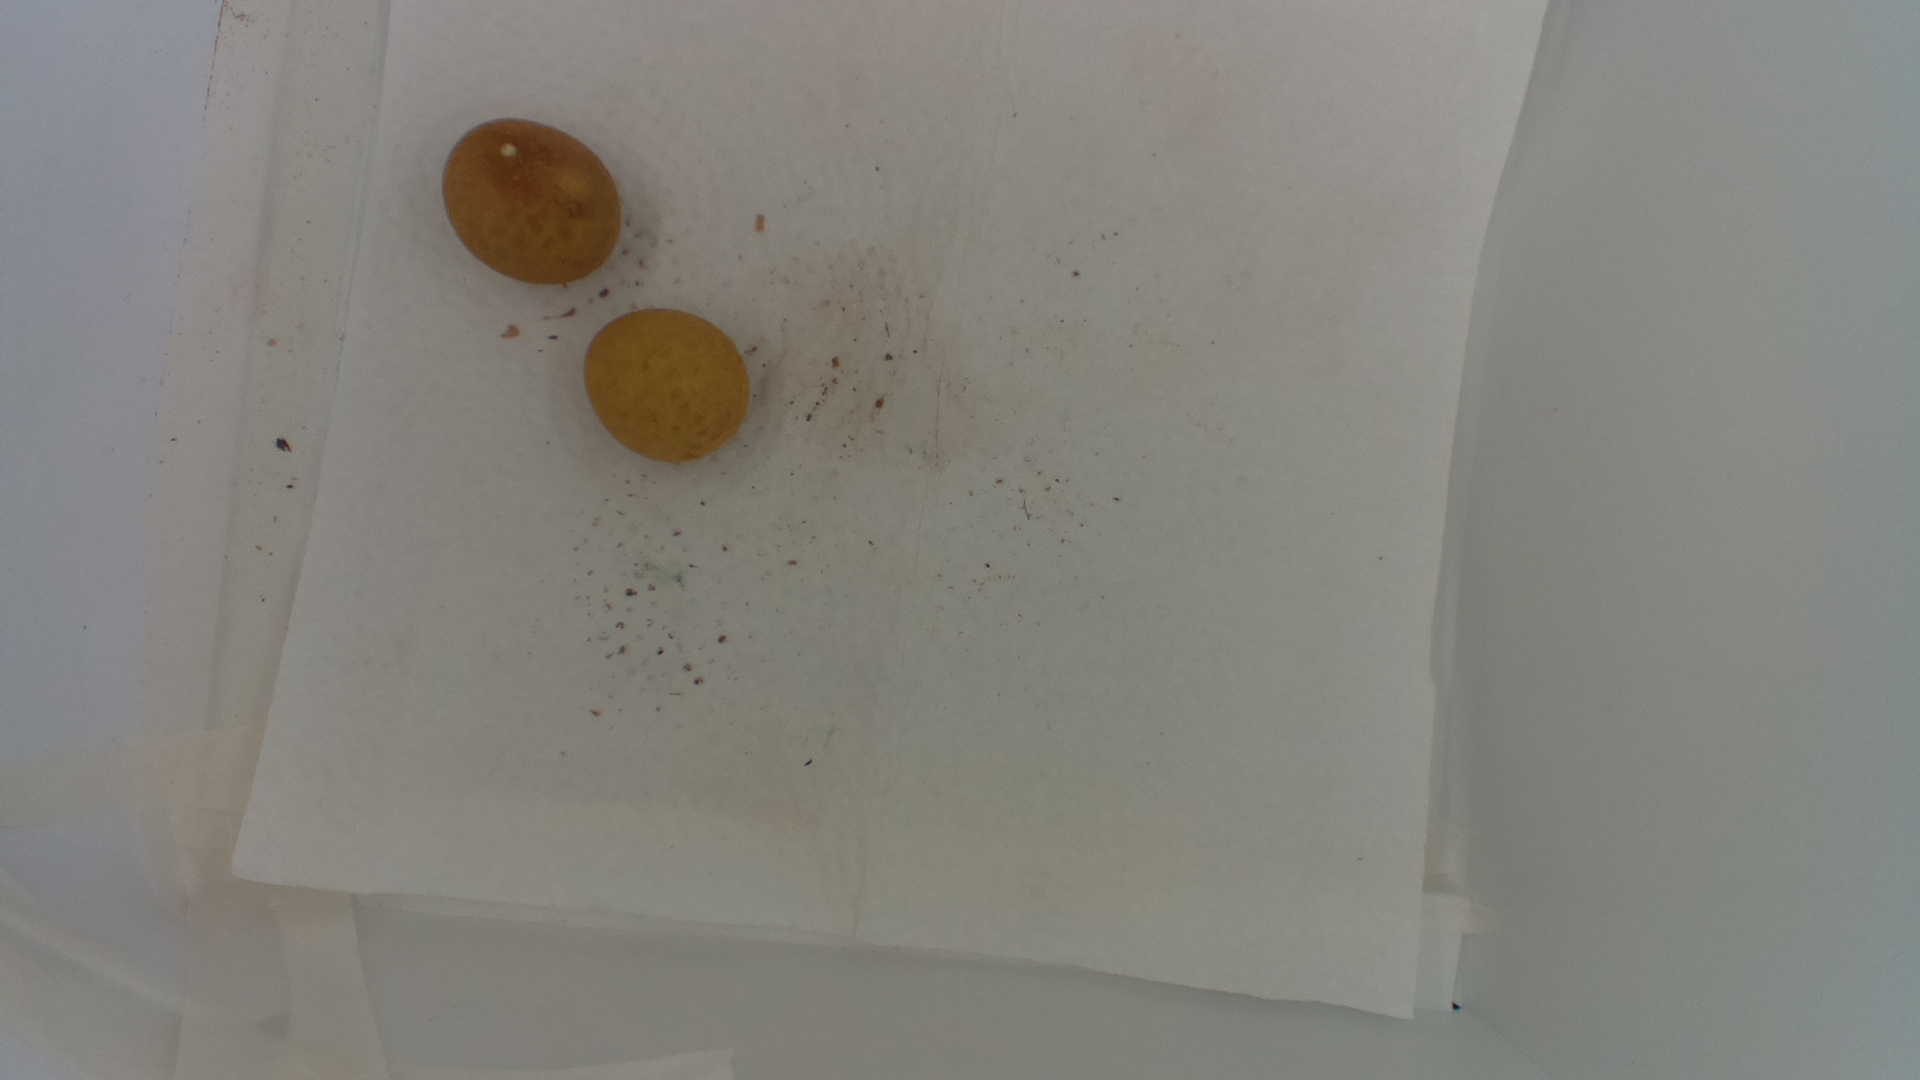fruit: (440, 116, 625, 290), (582, 306, 756, 468)
